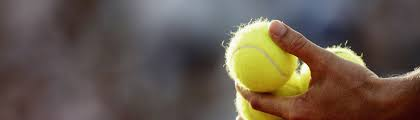tennis_ball: (225, 19, 299, 91), (235, 69, 299, 120), (299, 43, 367, 82)
